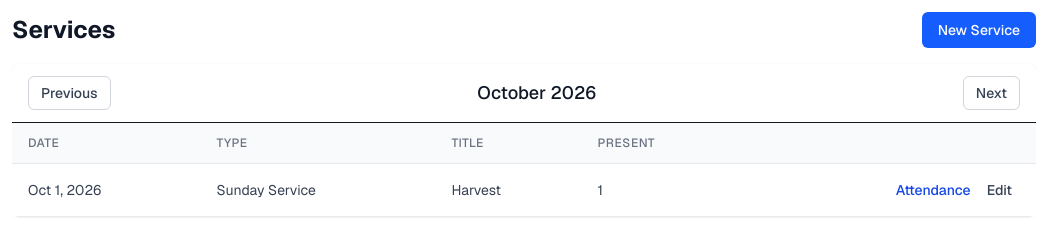
Scenario: ServicesPage › lists the current month's services and moves between months
Expected: the cell "Harvest" is shown, x1=435 y1=164 x2=581 y2=216
Click the button with aria-label "Previous month" at x=69, y=93, box x1=28 y1=76 x2=110 y2=110
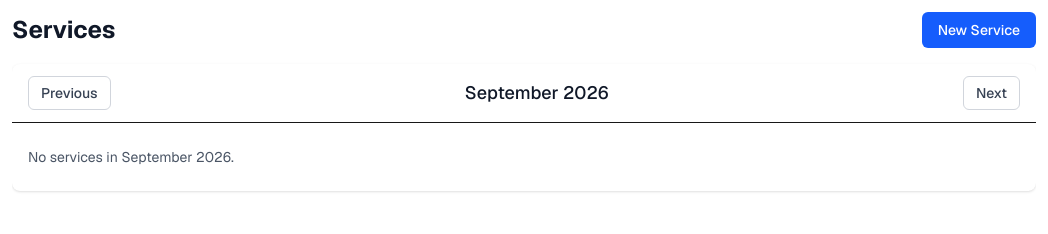
Now the text "No services in September 2026." is shown, box x1=28 y1=148 x2=234 y2=166
